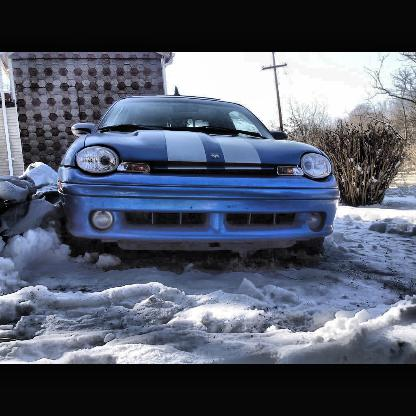Plymouth Neon Coupe 1999: (62, 92, 342, 270)
